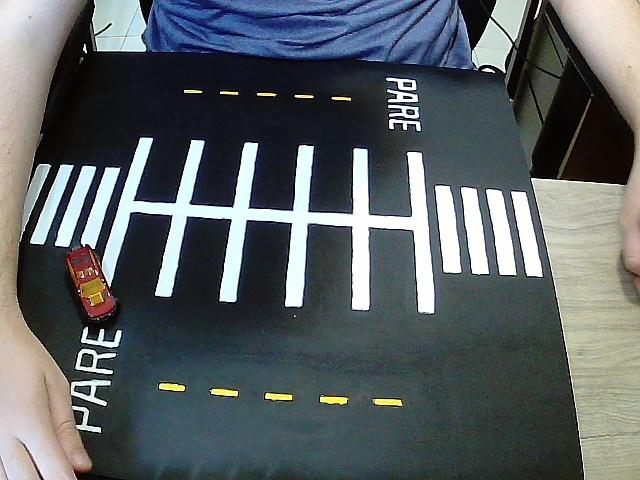Carro: (66, 245, 117, 322)
